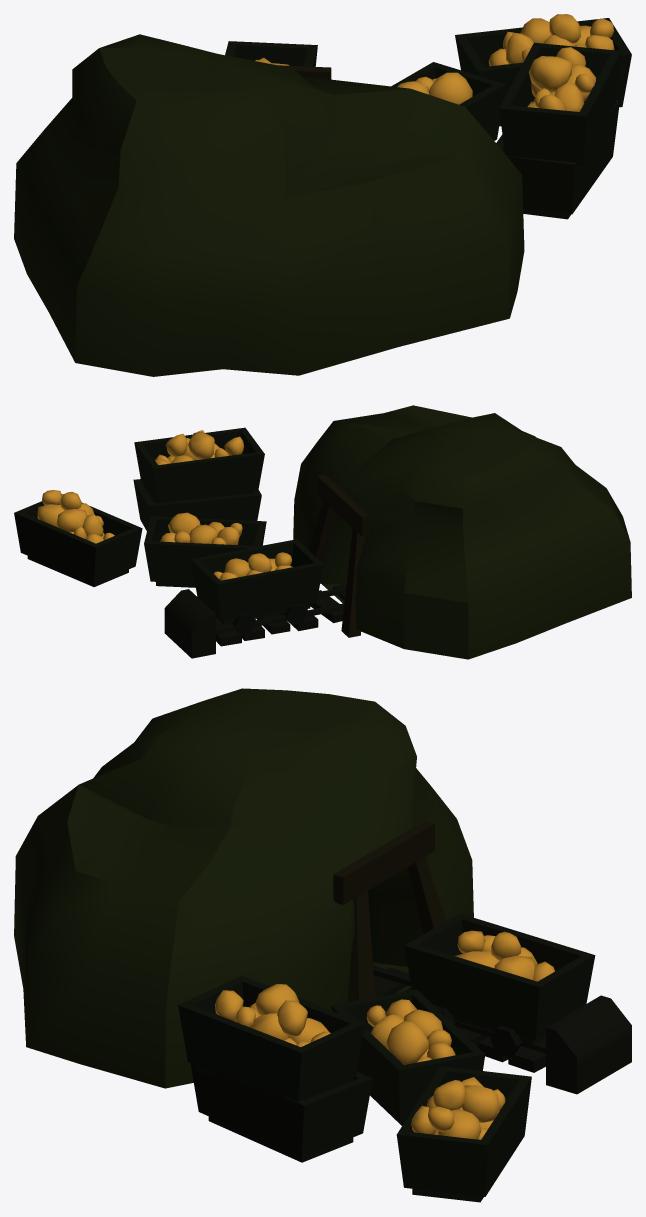
File: SM_GoldMine.fbx
3 views of the same model, one above another, from view 1: azimuth 30°, elevation 25°; view 2: azimuth 150°, elevation 25°; view 3: azimuth 270°, elevation 25° (orthographic). The views are drawn at different scales.
Parts seen in each view (by area): view 1: SM_GoldMine; view 2: SM_GoldMine; view 3: SM_GoldMine.
Boxes of the visible parts, bbox=[...] form: SM_GoldMine: bbox=[14, 14, 631, 376]; SM_GoldMine: bbox=[14, 405, 631, 659]; SM_GoldMine: bbox=[14, 688, 631, 1202].
Size of the model in its own units: 100 by 30.48 by 73.77.
